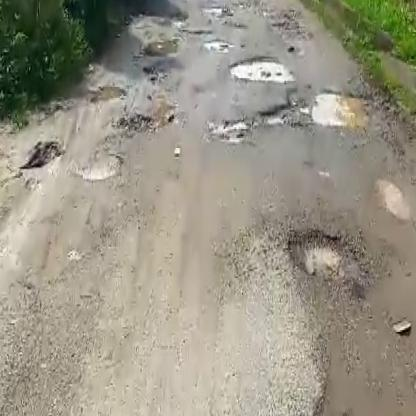pothole: (282, 224, 366, 284), (264, 89, 368, 130), (227, 54, 292, 82), (209, 116, 252, 144), (78, 155, 121, 183)
